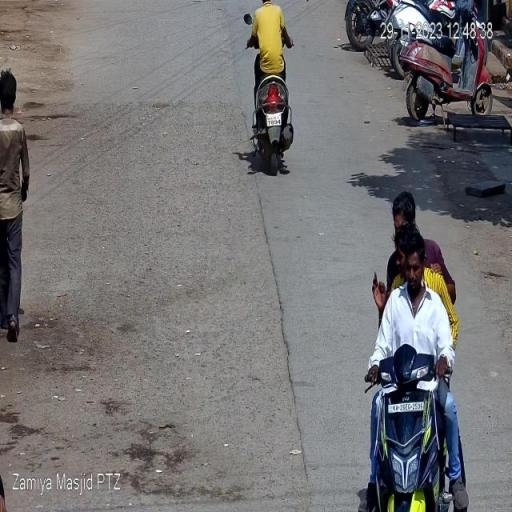tripple riding: (366, 186, 460, 358)
